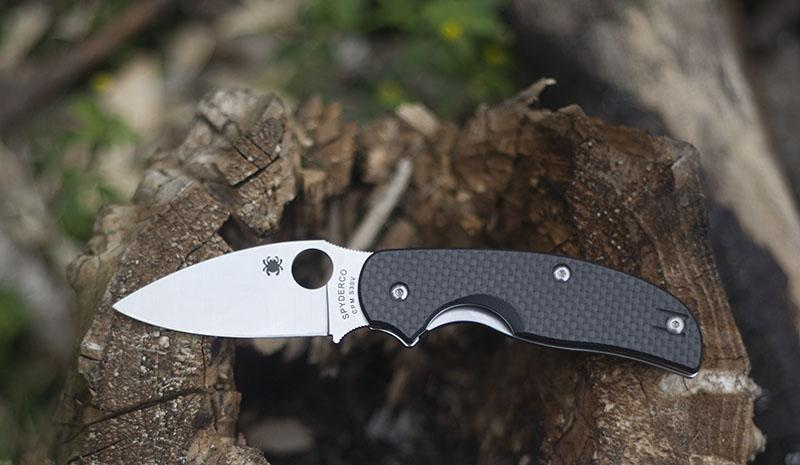Knife: (110, 238, 706, 379)
